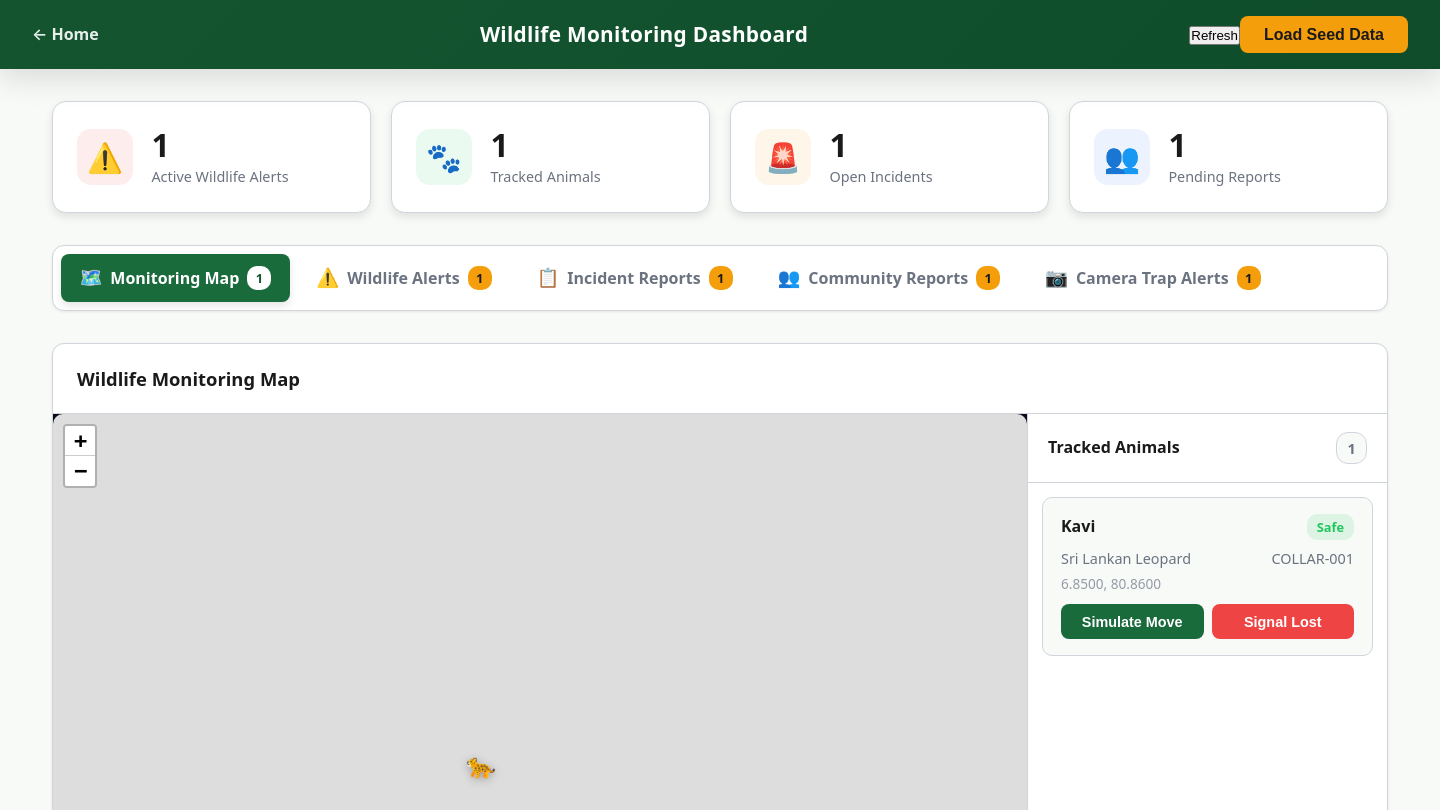
Test: SupervisorDashboard tabs › shows wildlife alerts data when the alerts tab is clicked
Click the tab "⚠️ Wildlife Alerts 1" at (404, 278), box [298,254,510,302]
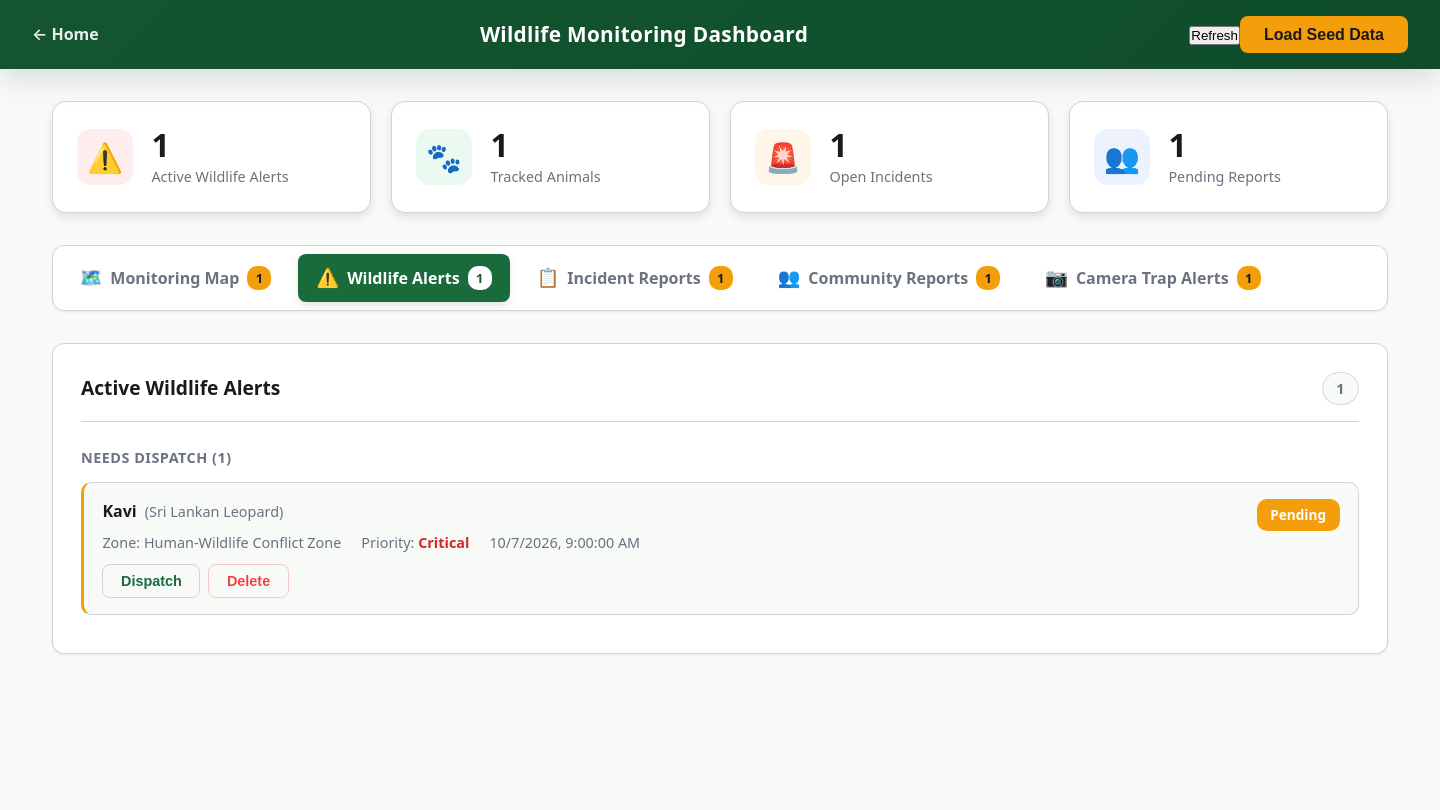
Expected: the text "Kavi" is shown, [102,499,137,525]
Now the heading "Active Wildlife Alerts" is shown, box [81,373,280,404]
